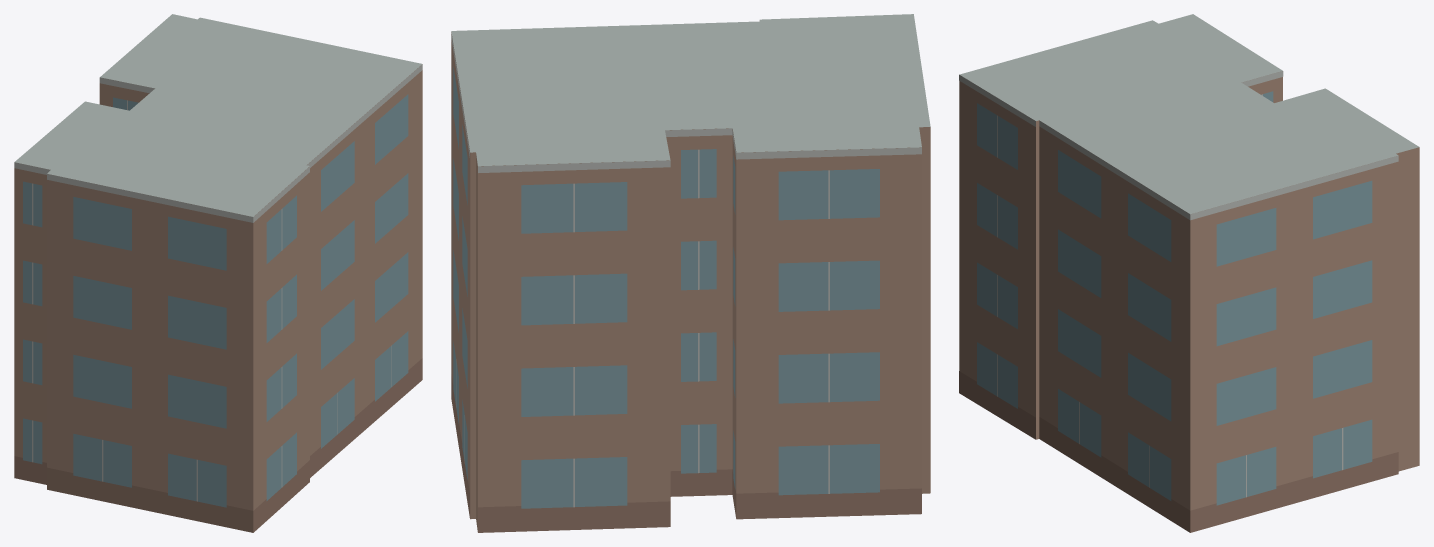
Rendered from survey-upis-33023784.glb.
The picture shows the model from 3 angles, left to right: view 1: azimuth 30°, elevation 25°; view 2: azimuth 150°, elevation 25°; view 3: azimuth 270°, elevation 25°; orthographic projection. The views are drawn at different scales.
Visible parts, largest first — view 1: survey-upis-33023784.tmp; view 2: survey-upis-33023784.tmp; view 3: survey-upis-33023784.tmp.
Boxes of the visible parts, bbox=[...] form: survey-upis-33023784.tmp: bbox=[14, 14, 422, 532]; survey-upis-33023784.tmp: bbox=[451, 14, 930, 532]; survey-upis-33023784.tmp: bbox=[959, 14, 1419, 532].
Bounding box in the file's own units: 17.39 × 12.89 × 16.89.
